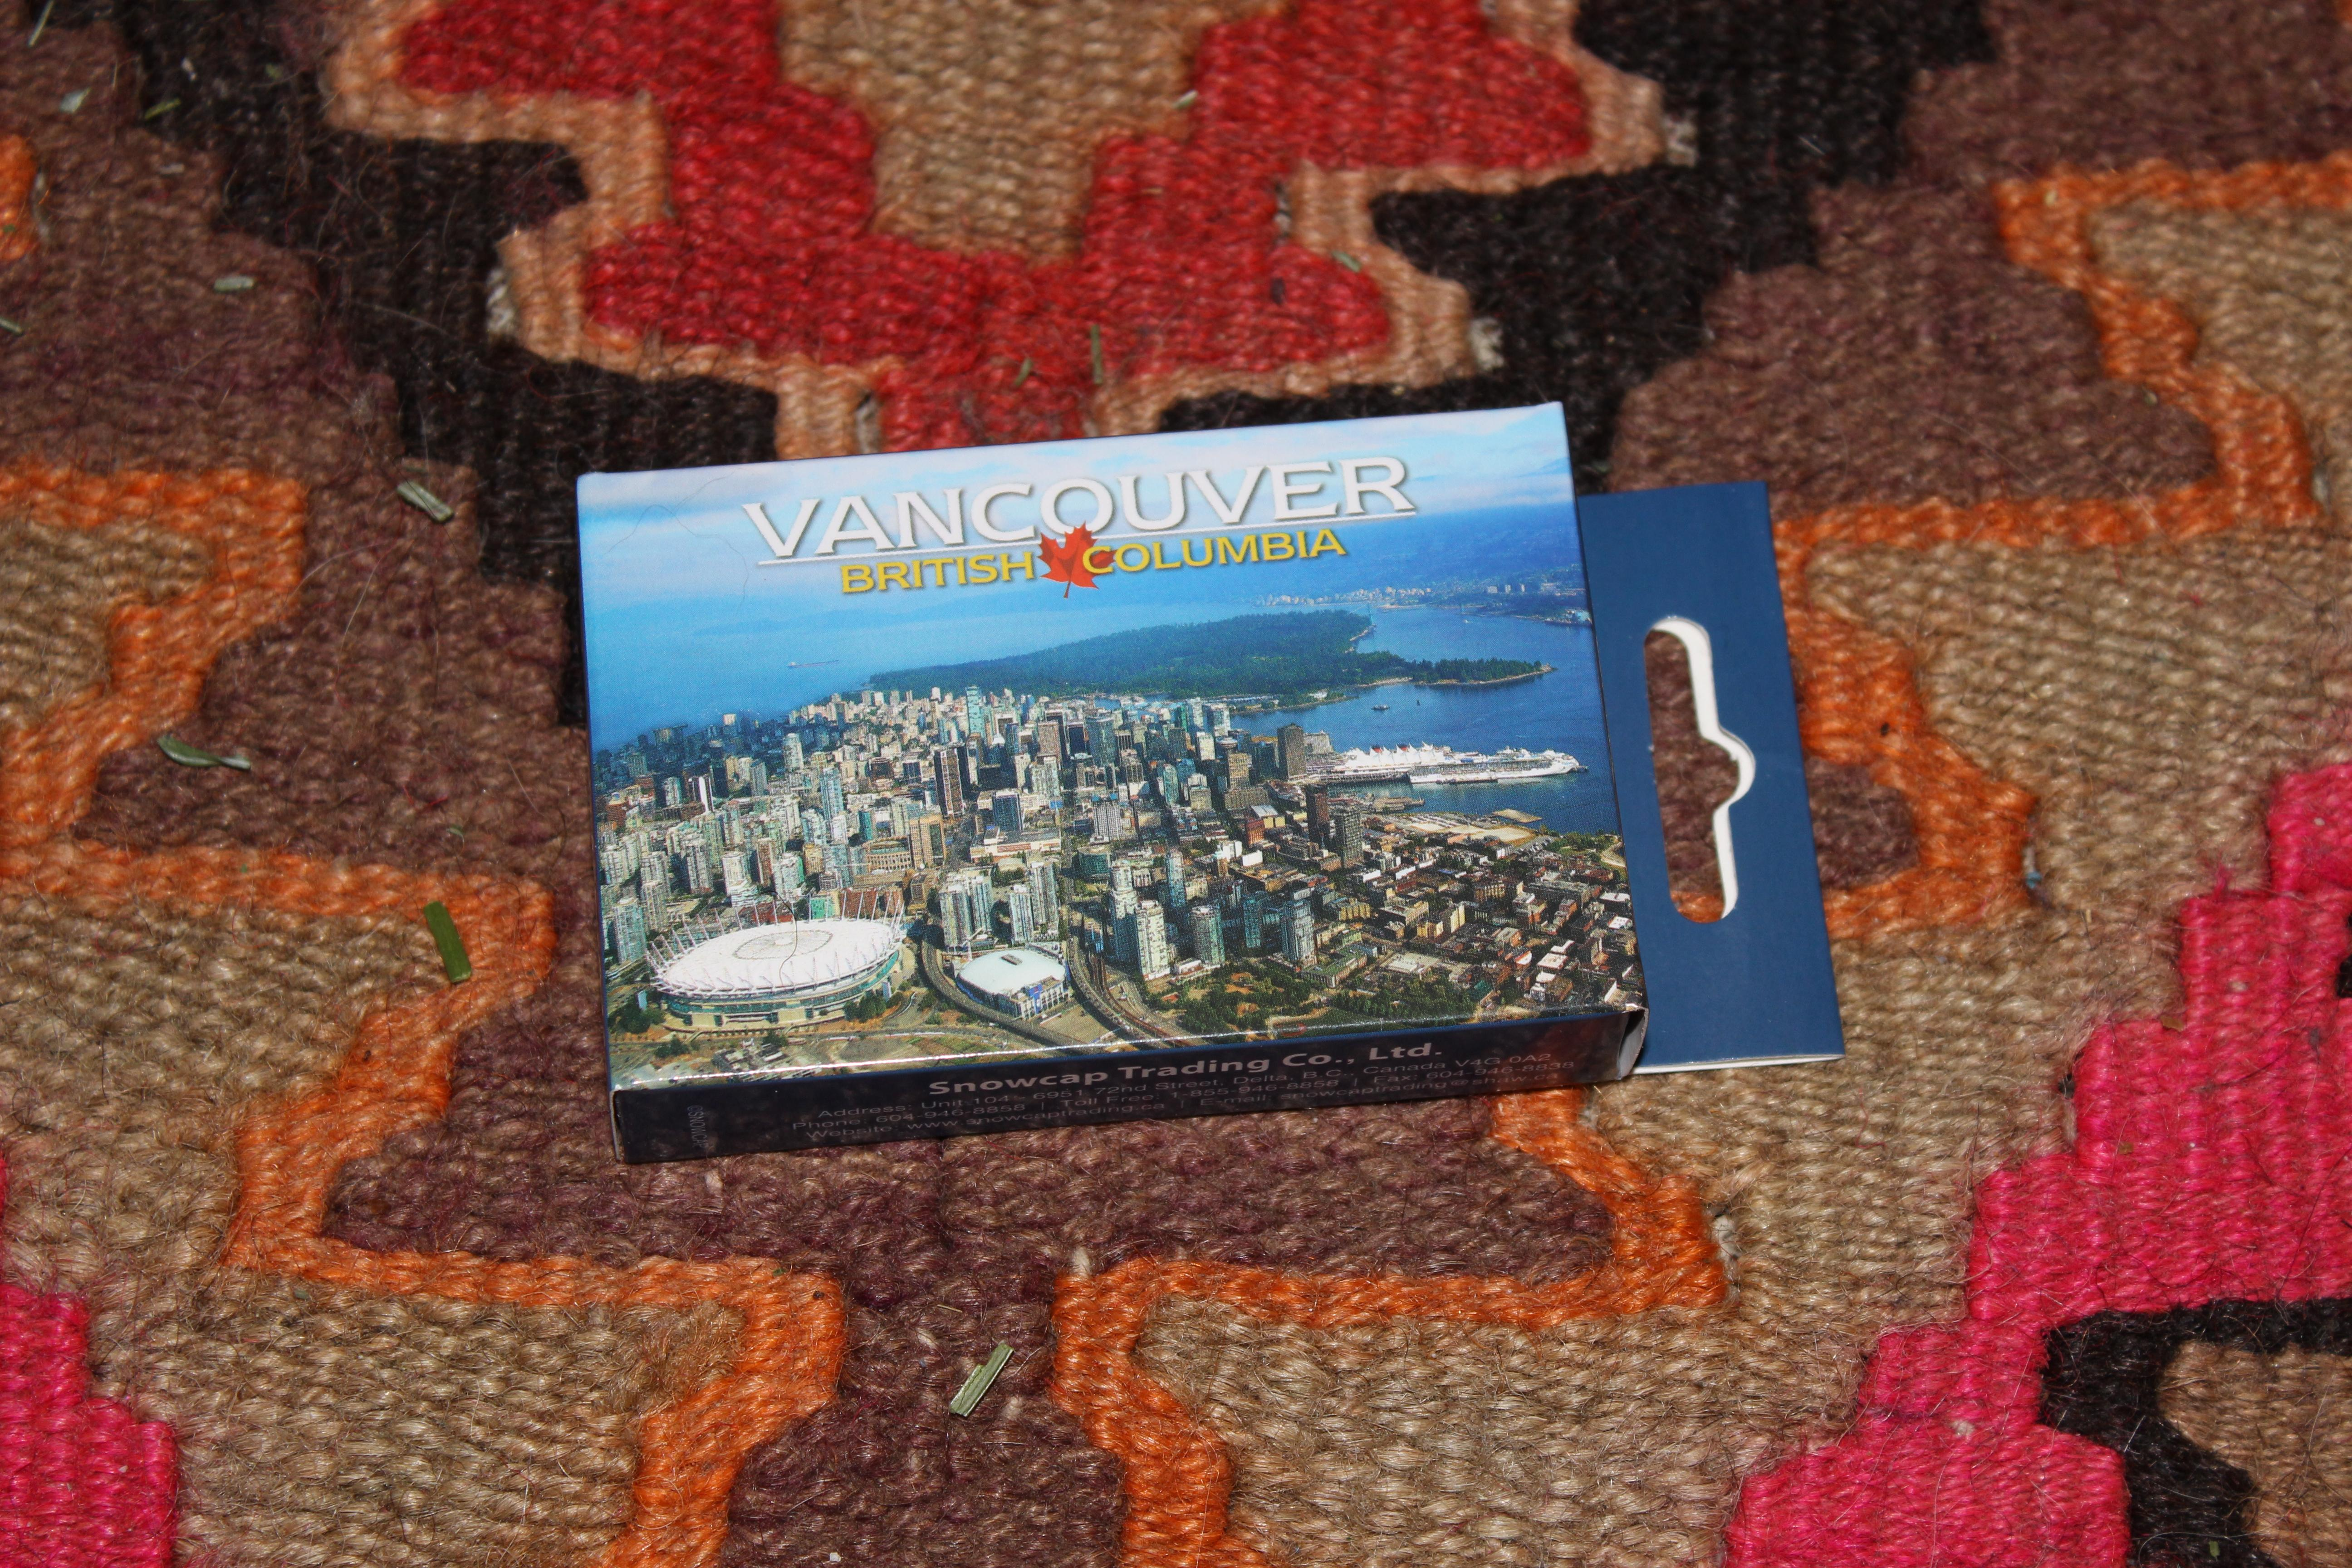vancouverCards: (541, 362, 1874, 1211)
